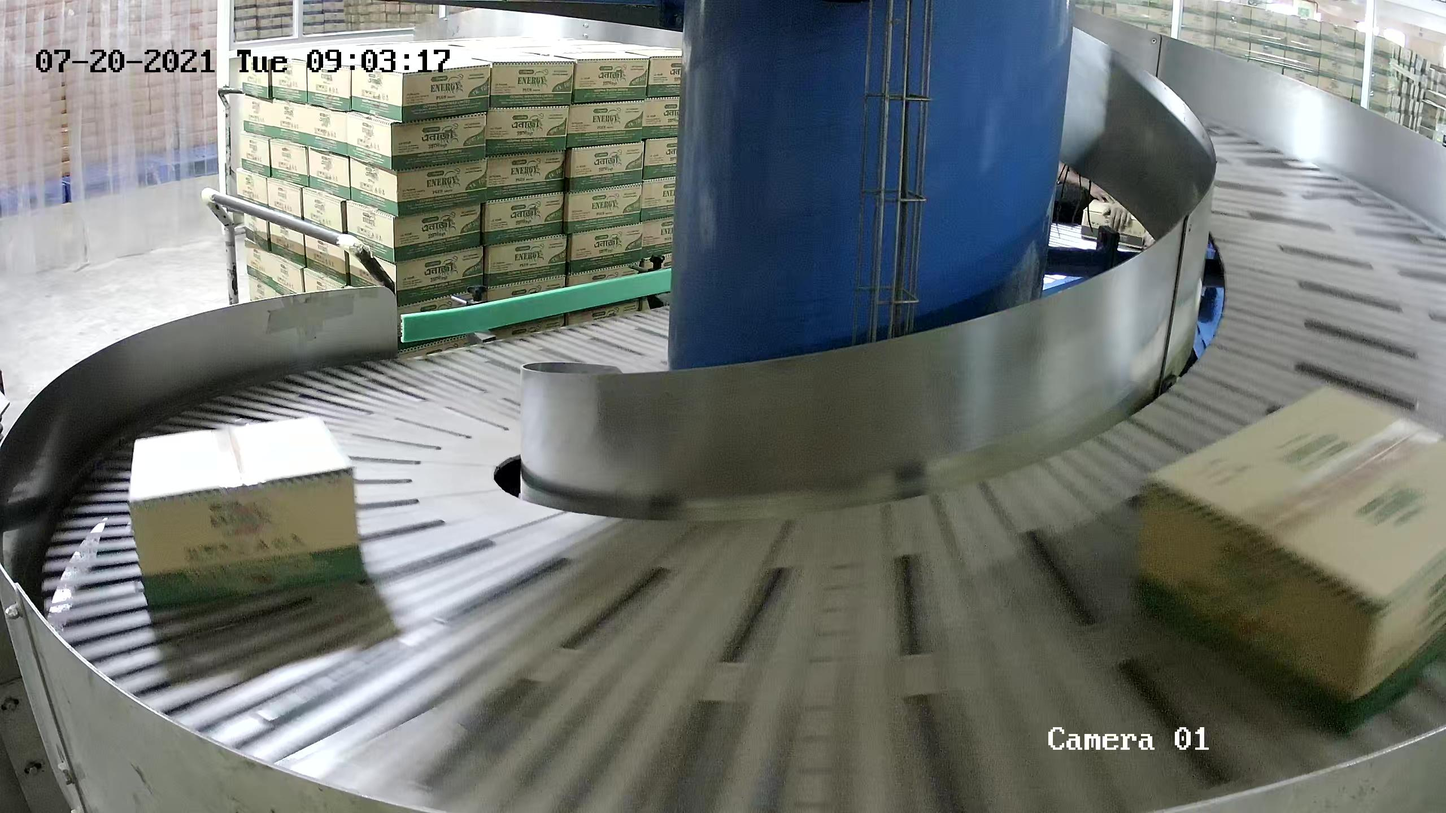Box: (1130, 381, 1446, 739), (128, 414, 369, 613)
